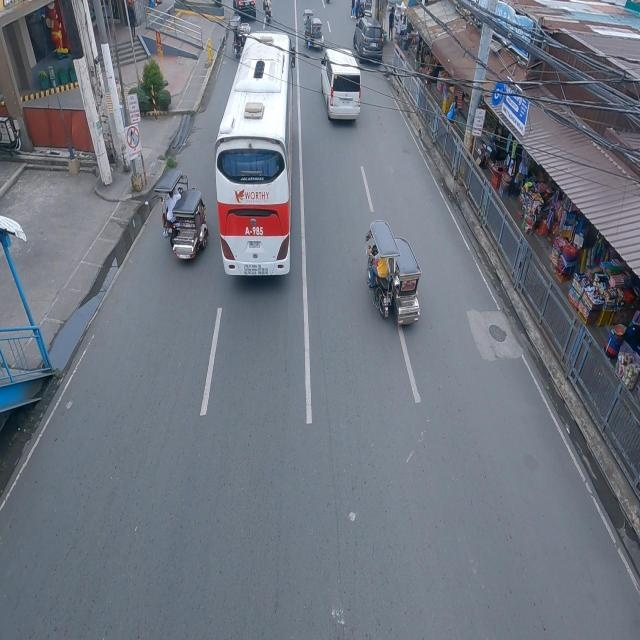Van: (320, 51, 362, 125)
